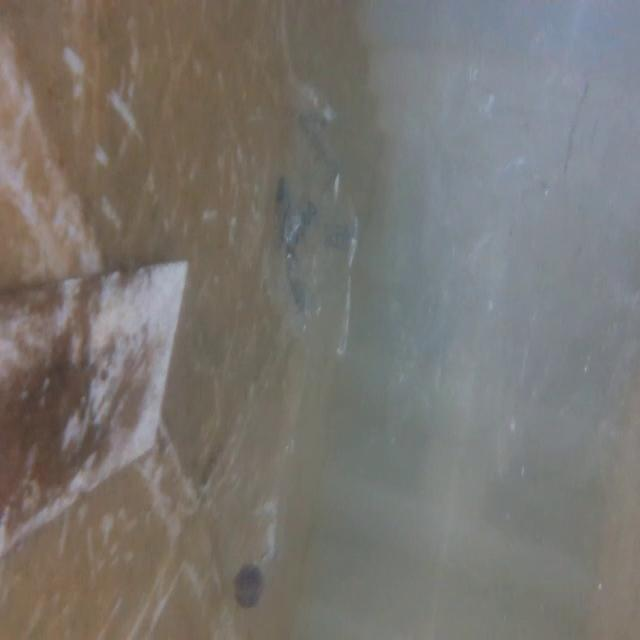metal: (0, 254, 194, 523)
plastic bags: (395, 0, 640, 520), (244, 64, 368, 378)
plastic bottle: (215, 421, 319, 622)
